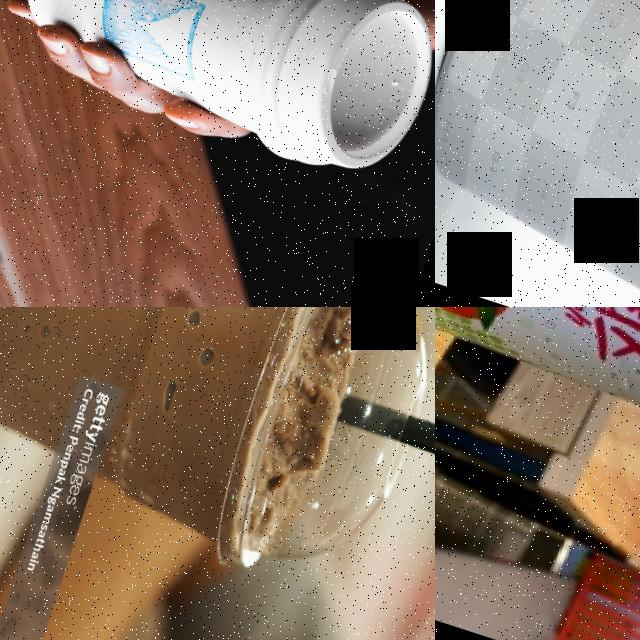can: (435, 0, 640, 307), (435, 307, 640, 434), (538, 0, 640, 126)
cup: (0, 307, 435, 608), (0, 0, 435, 194)
